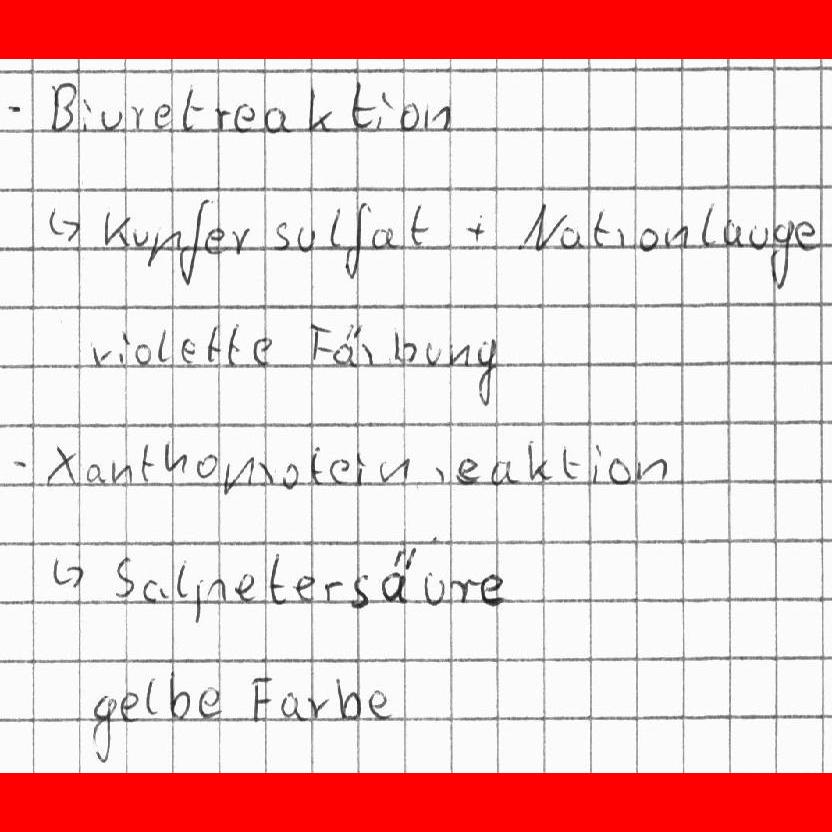Char: (180, 198, 209, 286), (517, 201, 562, 253), (380, 543, 416, 604), (343, 203, 370, 279), (90, 693, 115, 764), (222, 455, 265, 496), (194, 575, 226, 625), (43, 205, 81, 245), (770, 218, 791, 289), (307, 84, 337, 133), (474, 337, 495, 406), (49, 79, 75, 134), (147, 228, 182, 268), (178, 85, 207, 131), (350, 80, 376, 130), (50, 554, 85, 591), (46, 443, 75, 487), (248, 673, 274, 722), (167, 667, 191, 720), (331, 321, 359, 366), (335, 676, 361, 720), (407, 200, 430, 249), (102, 208, 128, 250), (305, 321, 330, 363), (265, 552, 284, 605), (527, 440, 550, 482), (113, 554, 134, 600), (479, 571, 505, 608), (422, 101, 452, 132), (378, 456, 410, 485), (348, 571, 372, 609), (263, 103, 291, 135), (391, 329, 416, 364), (636, 454, 666, 483), (560, 444, 583, 480), (197, 685, 222, 718), (163, 443, 188, 476), (489, 457, 517, 485), (422, 572, 445, 606), (226, 321, 243, 367), (367, 688, 390, 722), (233, 570, 256, 603), (252, 333, 274, 367), (371, 224, 399, 250), (455, 456, 480, 485), (591, 210, 610, 248), (794, 219, 818, 249), (293, 573, 317, 603), (307, 444, 324, 486), (700, 204, 716, 248), (662, 222, 688, 249), (558, 225, 585, 251), (173, 562, 191, 600), (204, 226, 226, 257), (608, 457, 632, 485), (450, 577, 473, 605), (235, 103, 257, 132), (111, 457, 133, 486), (465, 216, 487, 245), (279, 691, 300, 721), (589, 441, 604, 483), (140, 578, 165, 603), (143, 676, 159, 715), (304, 695, 330, 719), (138, 443, 154, 482), (231, 225, 251, 256), (326, 207, 341, 248), (354, 450, 372, 484), (195, 452, 216, 481), (99, 104, 120, 133), (206, 324, 222, 362), (328, 458, 352, 483), (127, 103, 148, 131), (118, 692, 139, 720), (637, 225, 657, 254), (273, 219, 291, 251), (400, 103, 420, 131), (723, 219, 743, 247), (153, 103, 174, 129), (746, 224, 767, 250), (378, 90, 395, 122), (154, 328, 169, 364), (296, 225, 316, 252), (179, 337, 199, 364), (447, 341, 470, 364), (91, 343, 114, 366), (322, 578, 344, 602), (280, 461, 299, 488), (85, 462, 105, 486), (430, 463, 451, 485), (80, 98, 94, 131), (213, 105, 232, 129), (118, 330, 131, 365), (131, 226, 150, 248), (134, 343, 151, 367), (10, 454, 32, 471), (423, 342, 439, 364), (360, 341, 374, 366), (614, 225, 629, 248), (4, 100, 22, 118)
